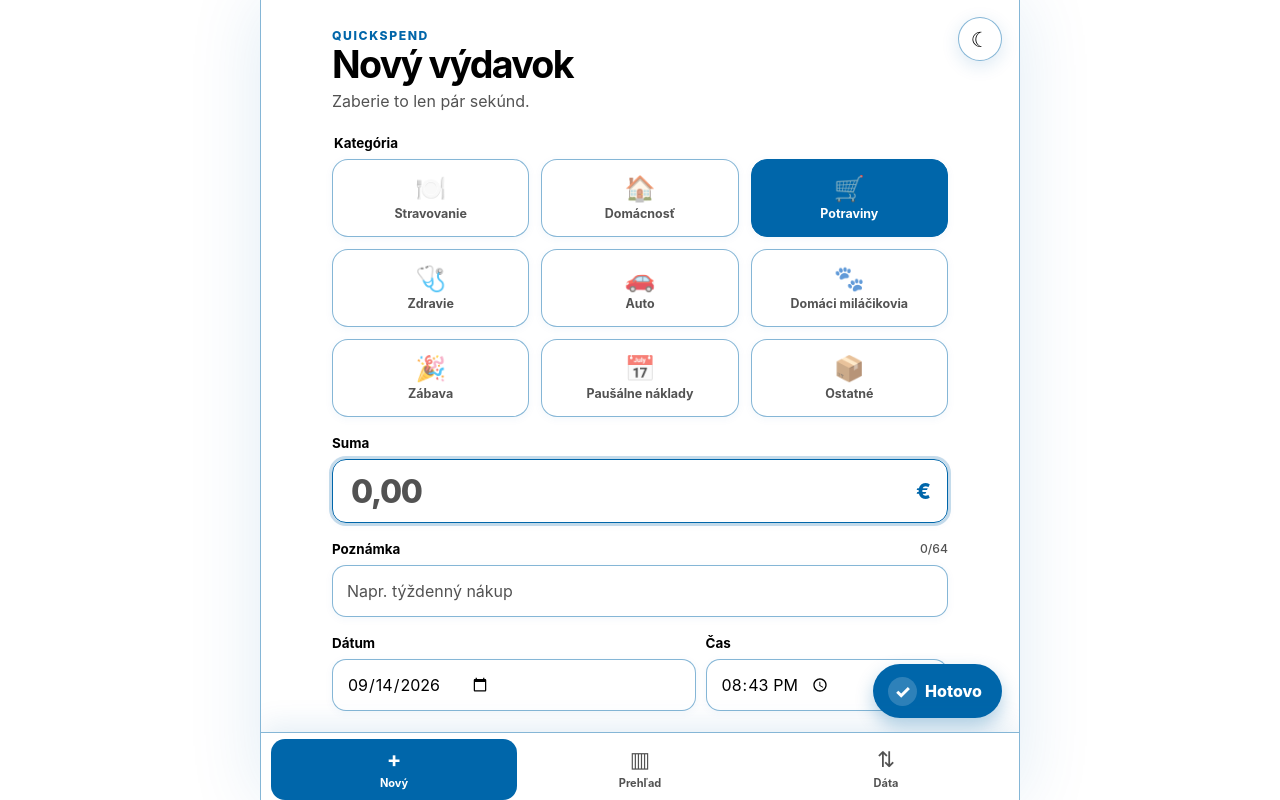
Test: QuickSpend app flow › switches theme and persists the choice
The width and height of the screenshot is (1280, 800).
What coordinates should you click on to do the following:
click the button named "Zapnúť tmavú tému"
I would click on:
 (980, 39)
Its box is [958,17,1002,61].
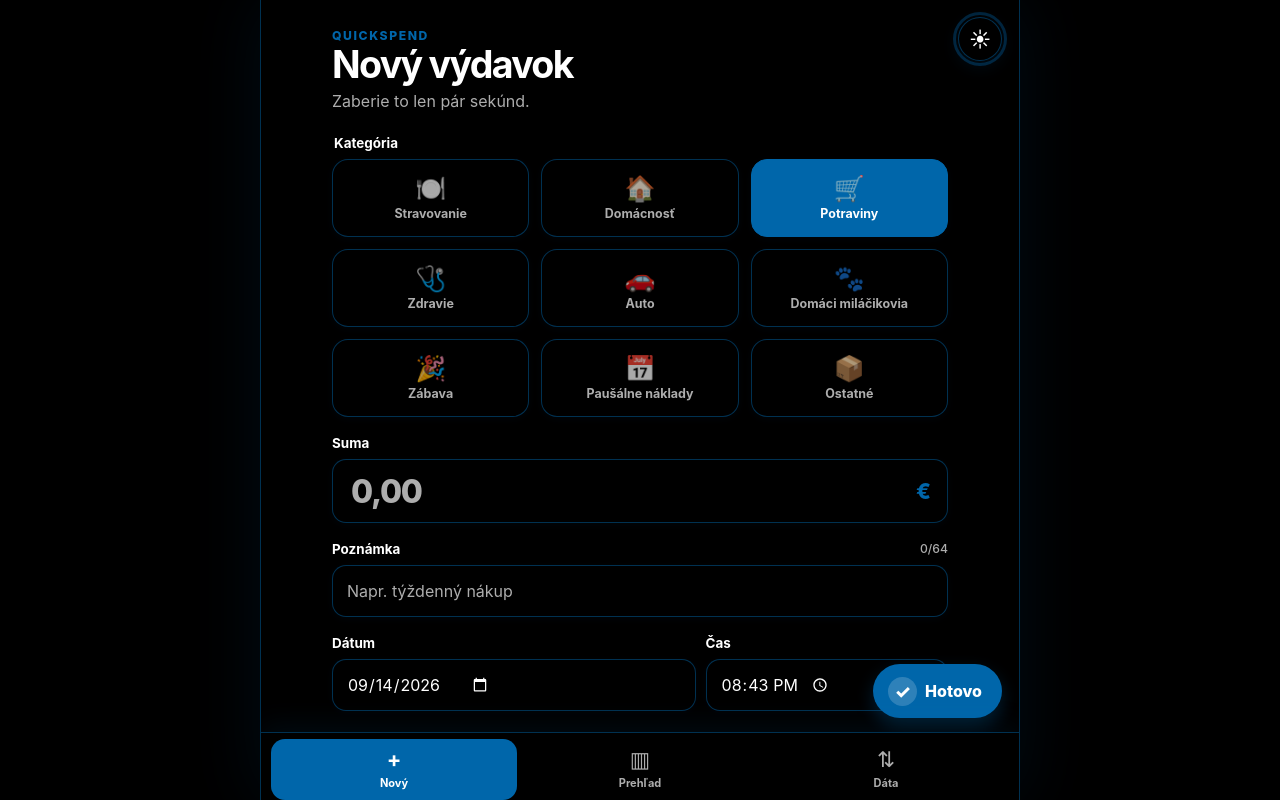
Now the button named "Zapnúť svetlú tému" is shown, box [958,17,1002,61]
